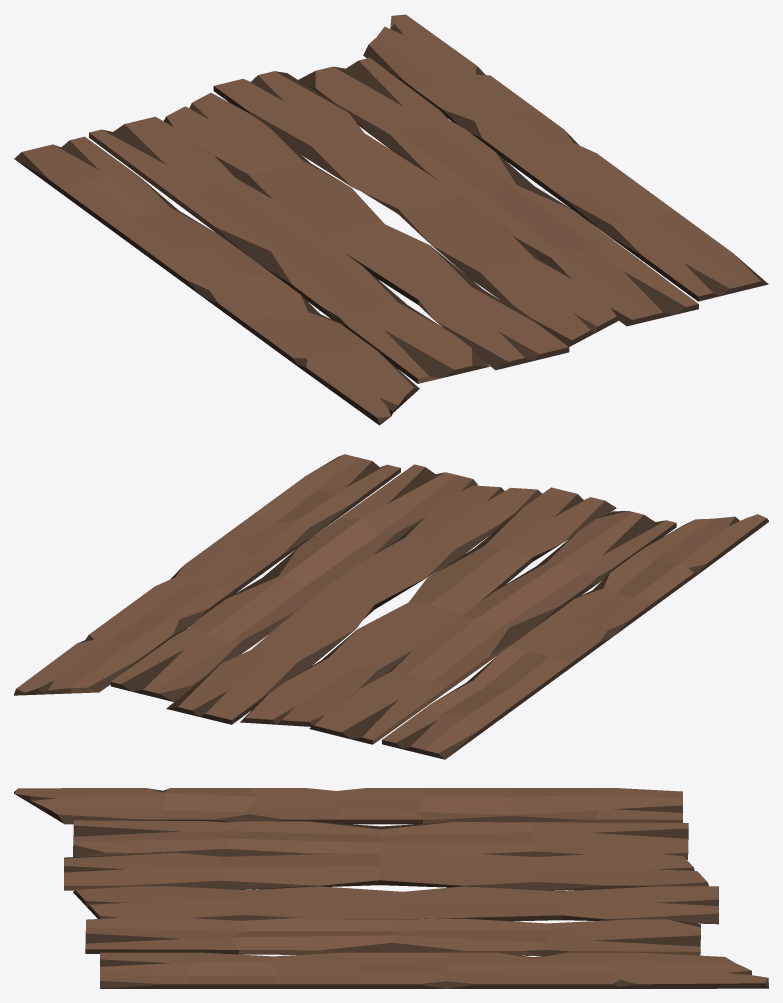
The model's file is Floor_01.gltf.
3 renders of one model, top to bottom at view 1: azimuth 30°, elevation 25°; view 2: azimuth 150°, elevation 25°; view 3: azimuth 270°, elevation 25°, orthographic. The views are drawn at different scales.
Parts seen in each view (by area): view 1: floor; view 2: floor; view 3: floor.
Boxes of the visible parts, x1,y1,x2,y2 form: floor: [14, 14, 768, 425]; floor: [14, 454, 768, 759]; floor: [14, 788, 768, 988].
Bounding box in the file's own units: 0.6914 × 0.0144 × 1.12.
Materials: 1 (1 with a texture image).
